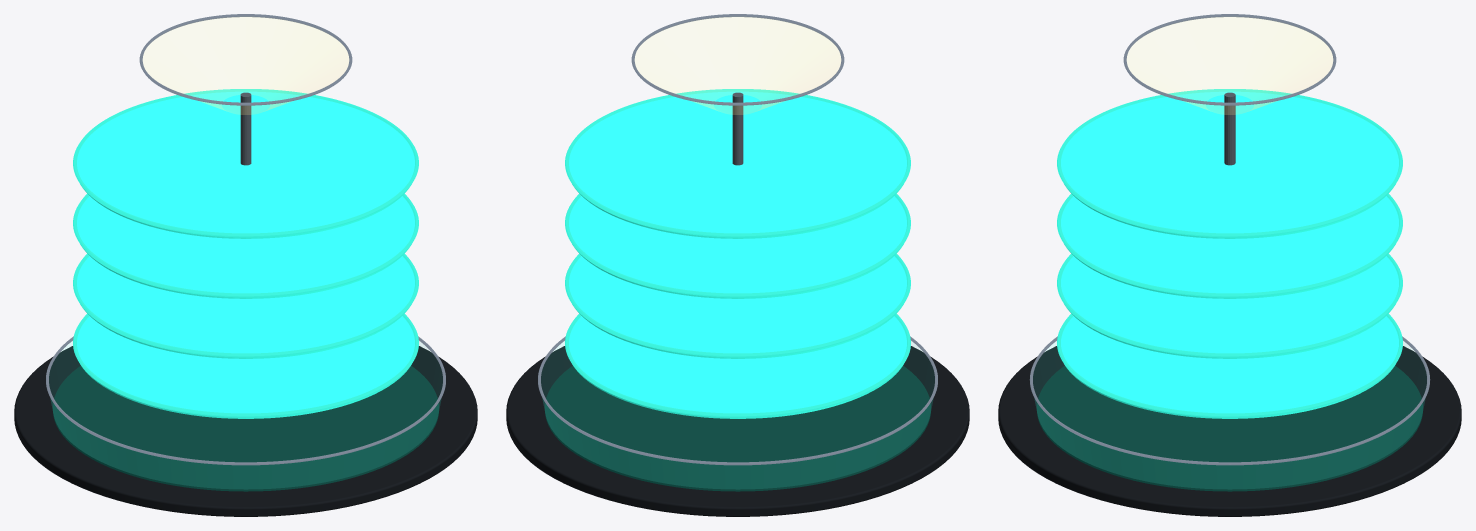
File: sieve.glb
3 renders of one model, left to right at view 1: azimuth 30°, elevation 25°; view 2: azimuth 150°, elevation 25°; view 3: azimuth 270°, elevation 25°, orthographic.
Visible parts, largest first — view 1: Layer_00, Sieve_Basin, Sieve_Base, Layer_01, Layer_03, Layer_02, Sieve_Funnel, LayerRim_00, LayerRim_03, LayerRim_02, LayerRim_01, Sieve_BasinRim (+2 smaller); view 2: Layer_00, Sieve_Basin, Sieve_Base, Layer_01, Layer_03, Layer_02, Sieve_Funnel, LayerRim_00, LayerRim_03, LayerRim_02, LayerRim_01, Sieve_BasinRim (+2 smaller); view 3: Layer_00, Sieve_Basin, Sieve_Base, Layer_01, Layer_02, Layer_03, Sieve_Funnel, LayerRim_00, LayerRim_03, LayerRim_02, LayerRim_01, Sieve_BasinRim (+2 smaller).
Part boxes in pixels (bbox=[...]): Layer_00: bbox=[77, 91, 414, 238]; Sieve_Basin: bbox=[53, 366, 438, 491]; Sieve_Base: bbox=[14, 346, 477, 516]; Layer_01: bbox=[77, 196, 414, 298]; Layer_03: bbox=[77, 316, 414, 418]; Layer_02: bbox=[77, 256, 414, 358]; Sieve_Funnel: bbox=[143, 17, 348, 114]; LayerRim_00: bbox=[73, 89, 418, 237]; LayerRim_03: bbox=[73, 313, 418, 417]; LayerRim_02: bbox=[73, 253, 418, 357]; LayerRim_01: bbox=[73, 193, 418, 297]; Sieve_BasinRim: bbox=[46, 336, 445, 465]; Layer_00: bbox=[569, 91, 906, 238]; Sieve_Basin: bbox=[545, 366, 930, 491]; Sieve_Base: bbox=[506, 346, 969, 516]; Layer_01: bbox=[569, 196, 906, 298]; Layer_03: bbox=[569, 316, 906, 418]; Layer_02: bbox=[569, 256, 906, 358]; Sieve_Funnel: bbox=[635, 17, 840, 114]; LayerRim_00: bbox=[565, 89, 910, 237]; LayerRim_03: bbox=[565, 313, 910, 417]; LayerRim_02: bbox=[565, 253, 910, 357]; LayerRim_01: bbox=[565, 193, 910, 297]; Sieve_BasinRim: bbox=[538, 336, 937, 465]; Layer_00: bbox=[1061, 91, 1398, 238]; Sieve_Basin: bbox=[1037, 366, 1422, 491]; Sieve_Base: bbox=[998, 346, 1461, 516]; Layer_01: bbox=[1061, 196, 1398, 298]; Layer_02: bbox=[1061, 256, 1398, 358]; Layer_03: bbox=[1061, 316, 1398, 418]; Sieve_Funnel: bbox=[1127, 17, 1332, 114]; LayerRim_00: bbox=[1057, 89, 1402, 237]; LayerRim_03: bbox=[1057, 313, 1402, 417]; LayerRim_02: bbox=[1057, 253, 1402, 357]; LayerRim_01: bbox=[1057, 193, 1402, 297]; Sieve_BasinRim: bbox=[1029, 336, 1430, 465].
Size of the model in its own units: 4.2 by 3.61 by 4.2.
